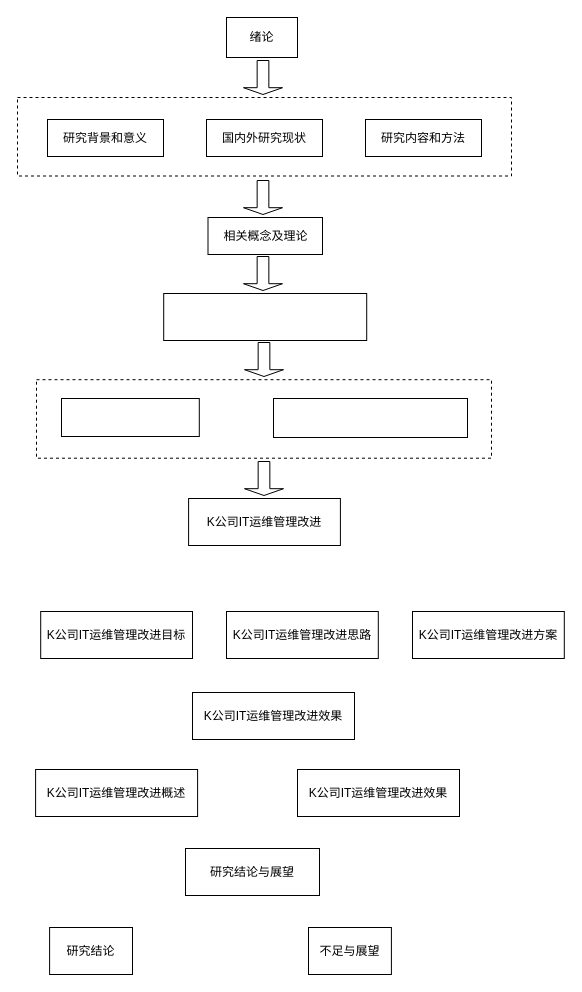
The diagram is 582 pixels wide and 992 high, and some of its shapes have lost their labels. Here are the shapes that lost their labels. From the top down, the centre of each, then its label:
At pixel 265 316: "K公司IT运维管理现状和问题研究".
At pixel 129 417: "K公司IT运维管理现状".
At pixel 370 418: "K公司IT运维管理问题调研及总结".
